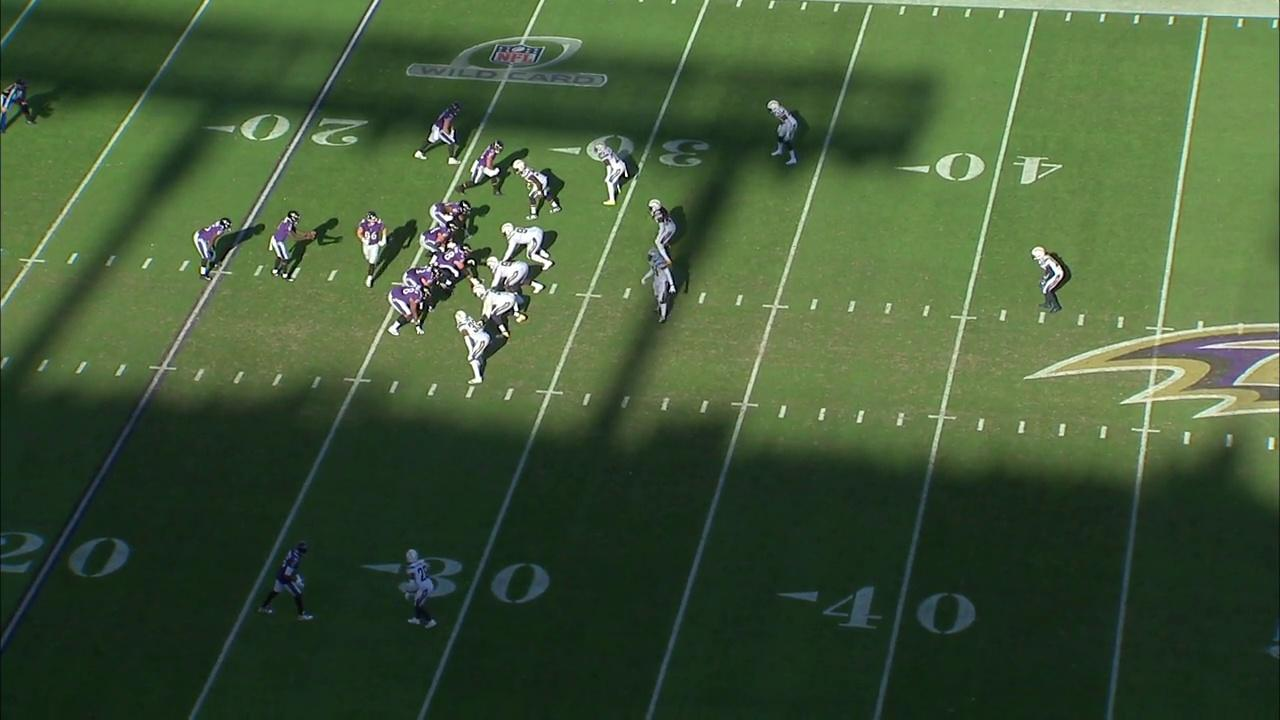defense: (511, 158, 563, 222), (471, 283, 528, 341), (484, 255, 546, 308), (401, 547, 440, 631), (452, 308, 492, 386), (639, 248, 680, 324), (499, 221, 556, 272), (1029, 244, 1066, 316), (765, 98, 801, 167), (593, 139, 629, 207), (645, 197, 678, 266)
oline: (428, 242, 482, 295), (386, 284, 433, 339), (399, 264, 444, 314), (426, 199, 475, 241), (419, 220, 461, 266)
qb: (266, 209, 318, 285)
ref: (0, 76, 42, 134)
skill: (254, 538, 318, 624), (412, 100, 466, 167), (454, 138, 506, 199), (353, 209, 390, 290), (190, 215, 233, 282)
